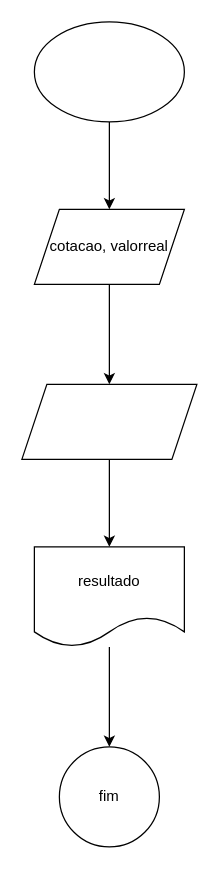
Some shapes in this 219 by 869 pixel diagram are drawn without their labels. The centre of each missing label's shape, as x and y in pixels:
"inico" belongs at (108,71).
"resultado = valorreal (valorreal/cotacao)" belongs at (109,421).
